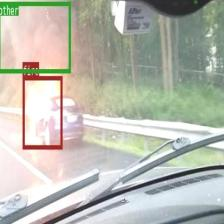fire: (22, 75, 62, 148)
